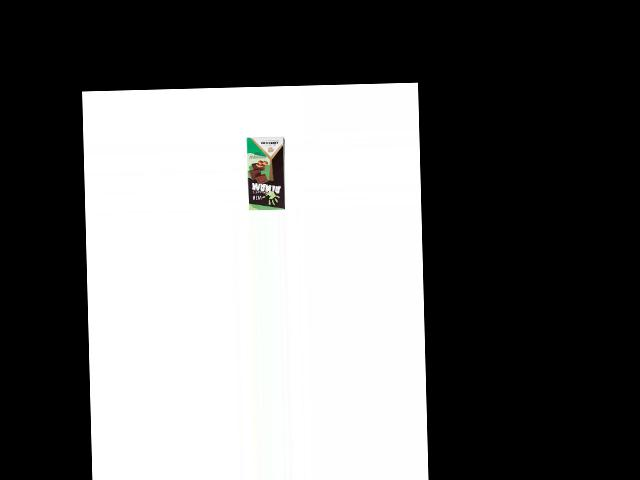chocolate: (244, 135, 287, 211)
